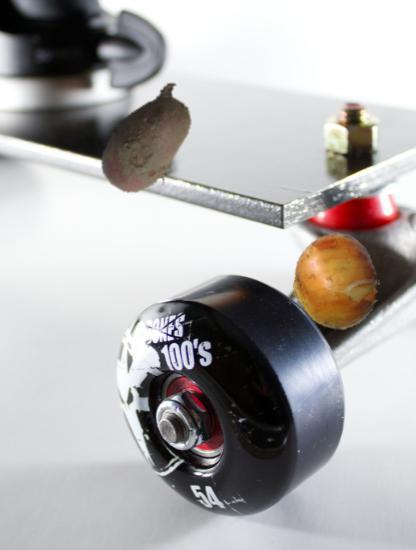Onion: (285, 232, 385, 332)
Potato: (88, 77, 212, 201)
